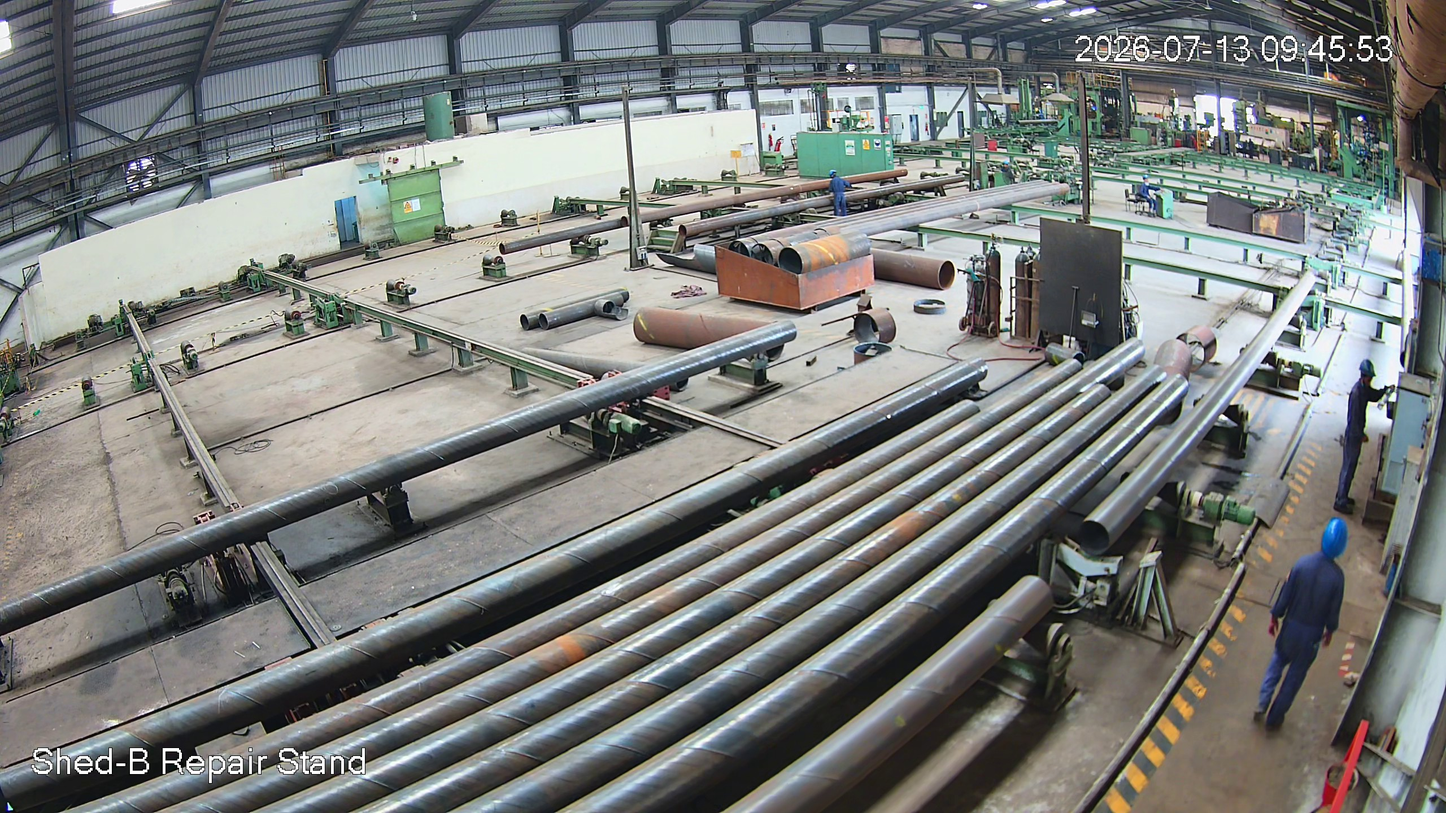Helmet: (1316, 509, 1365, 575), (1355, 350, 1388, 396), (828, 167, 838, 181)
Person: (1251, 519, 1360, 742), (1330, 356, 1383, 518), (828, 170, 848, 216)
